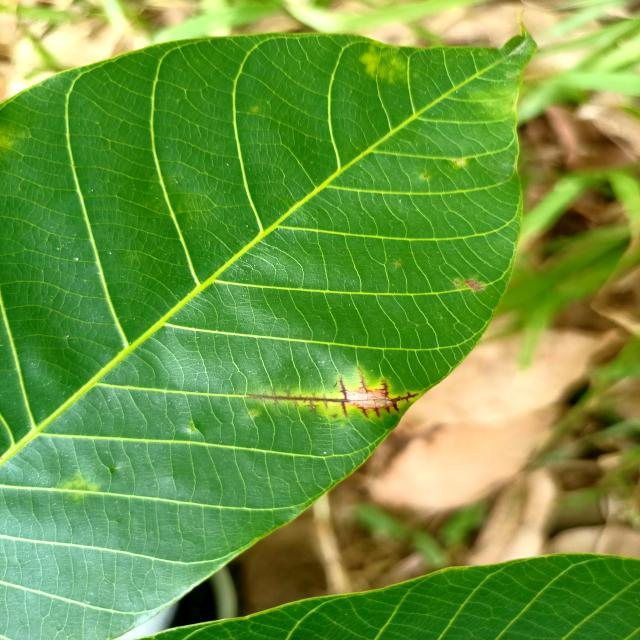Corynespora: (246, 367, 419, 419)
